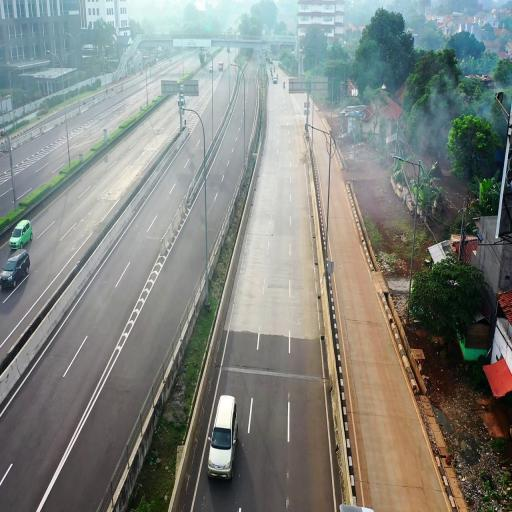vehicle: (206, 394, 238, 481), (207, 394, 238, 482), (1, 249, 30, 293), (10, 220, 32, 252)
